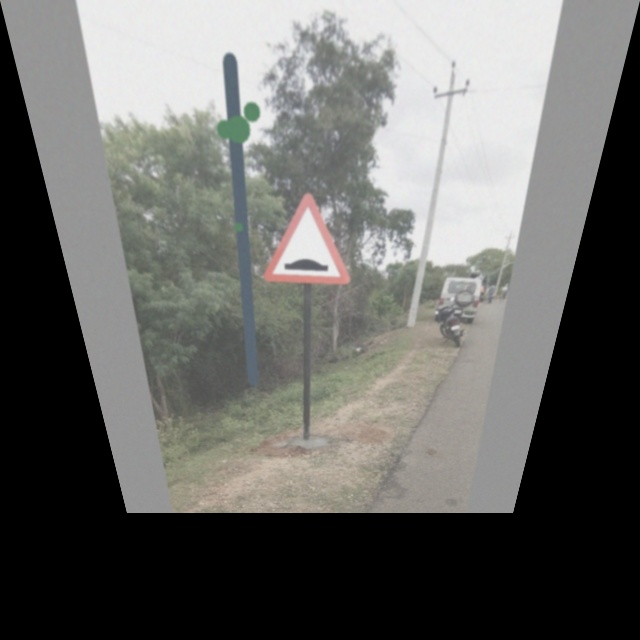Dangerous_Dip: (257, 194, 353, 283)
